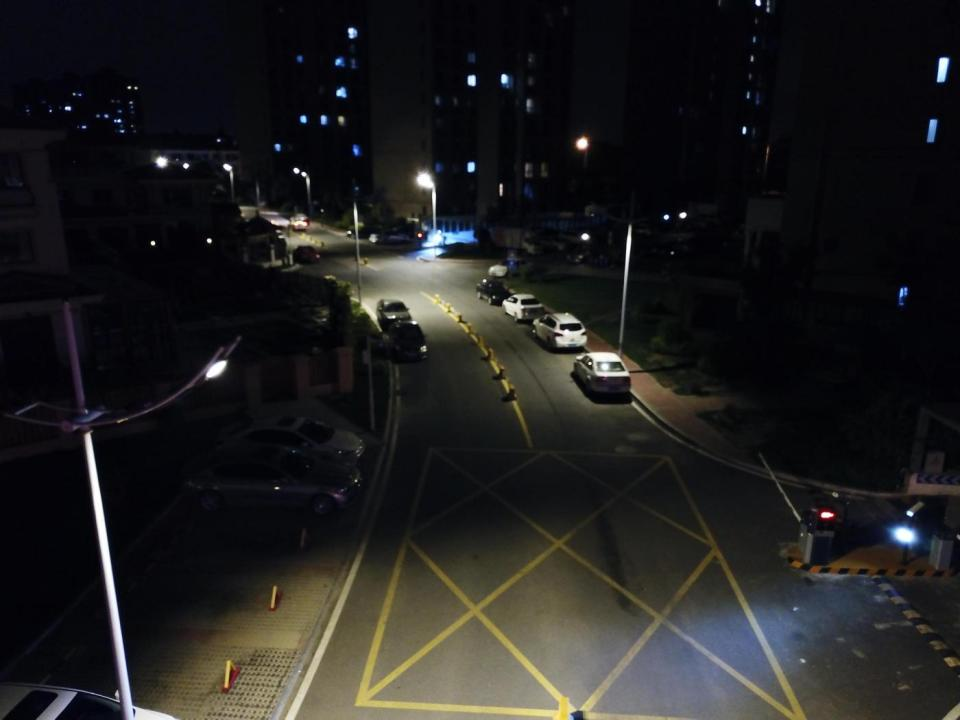car: (180, 439, 364, 516), (214, 415, 364, 470), (572, 351, 631, 394), (532, 312, 588, 350), (387, 319, 428, 360), (502, 293, 545, 323), (376, 297, 413, 326), (488, 256, 536, 278), (476, 279, 512, 305), (369, 230, 409, 245), (561, 228, 592, 244), (294, 244, 320, 262), (567, 246, 593, 264), (540, 235, 566, 250), (290, 212, 309, 230)
truck: (485, 226, 544, 255)
